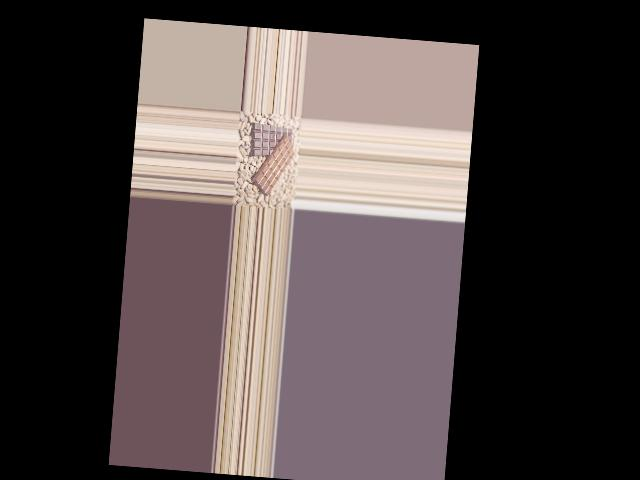chocolate: (247, 118, 295, 159)
